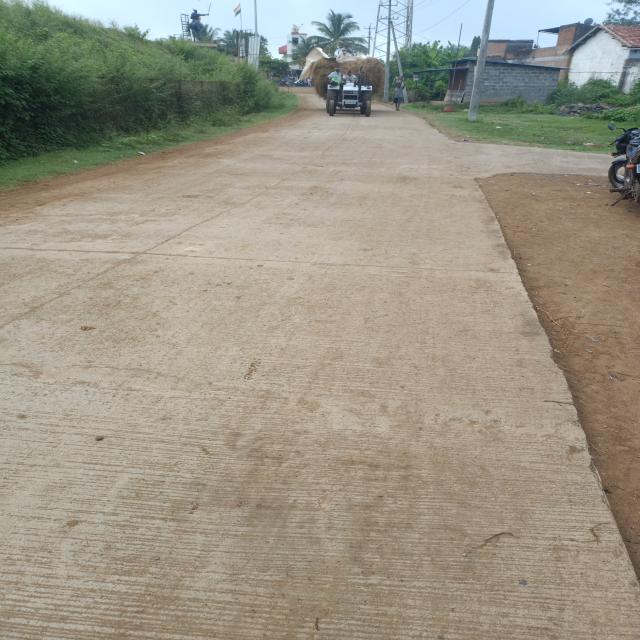Bike: (612, 129, 640, 256)
tractor: (311, 60, 385, 122)
